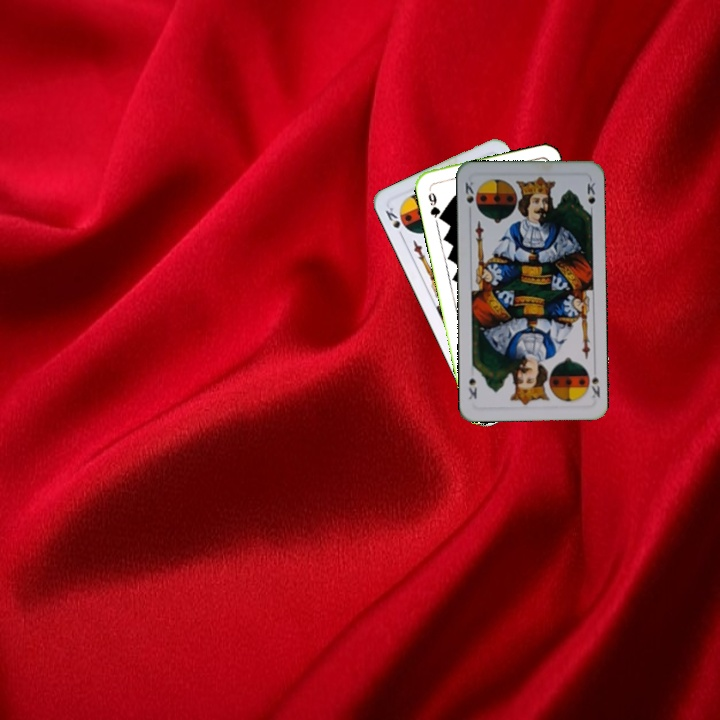G9: (424, 188, 445, 223)
SK: (381, 203, 406, 241), (587, 363, 603, 400), (461, 178, 476, 206)
